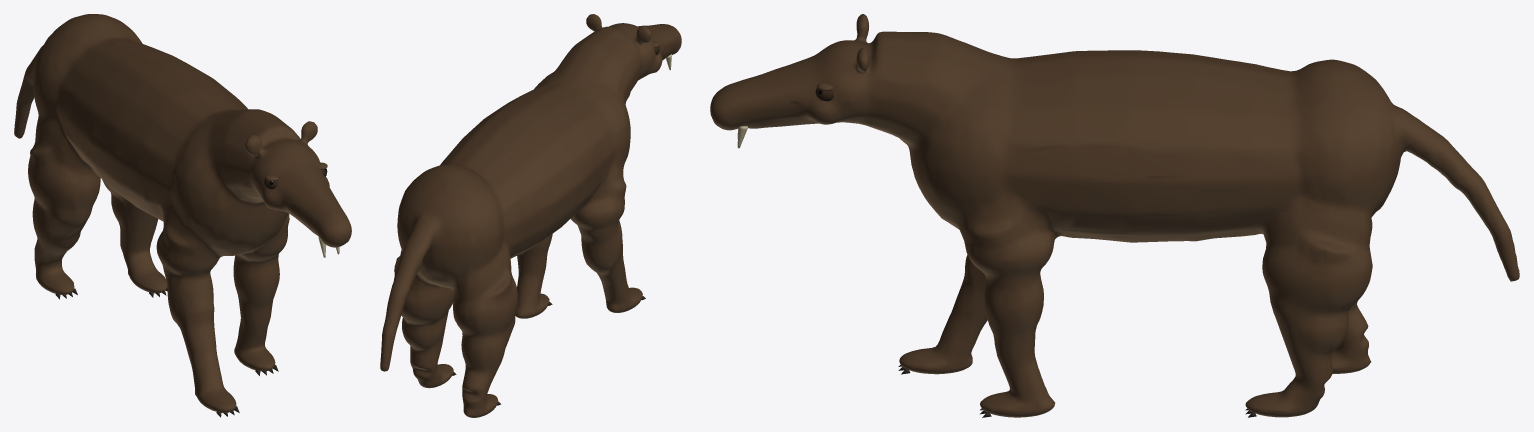
File: AmphicyonIngens.fbx
3 renders of one model, left to right at view 1: azimuth 30°, elevation 25°; view 2: azimuth 150°, elevation 25°; view 3: azimuth 270°, elevation 25°, orthographic. The views are drawn at different scales.
Parts seen in each view (by area): view 1: AmphicyonIngens; view 2: AmphicyonIngens; view 3: AmphicyonIngens.
Part boxes in pixels (x1,y1,x2,y2): AmphicyonIngens: [14, 14, 351, 417]; AmphicyonIngens: [380, 14, 681, 417]; AmphicyonIngens: [710, 14, 1519, 417].
Bounding box in the file's own units: 0.4786 × 1.06 × 2.15.
